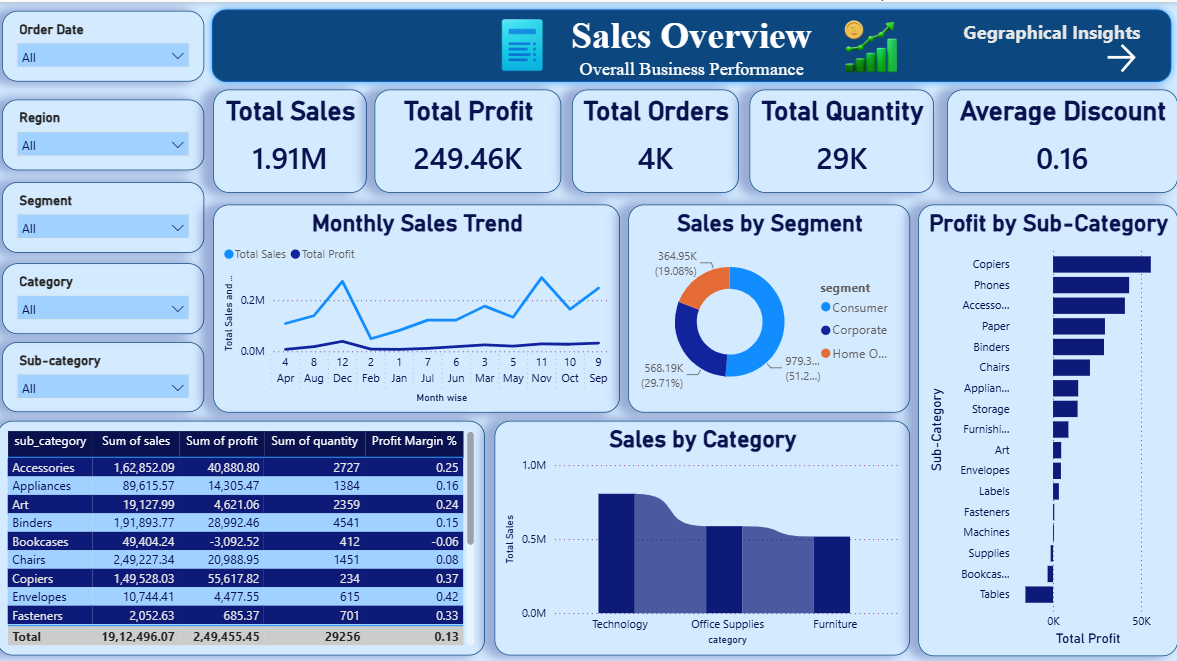

The page's visual inventory and layout, read from the dashboard file:
{"tool":"powerbi","page":{"name":"Sales Overview","canvas":[1280,720],"ordinal":0},"visuals":[{"type":"cardVisual","title":"Total Sales","fields":{"Data":["charu_customer_data.Total Sales"]},"box":[233.9,94.6,166.3,112.2],"z":0},{"type":"shape","box":[224.4,0,1055.9,94.6],"z":1000},{"type":"shape","box":[575.9,47.3,354.2,36.5],"z":2000},{"type":"slicer","fields":{"Values":["charu_customer_data.order_date"]},"box":[5.4,9.5,219,77.1],"z":3000},{"type":"slicer","fields":{"Values":["charu_customer_data.region"]},"box":[5.4,105.5,219,77.1],"z":4000},{"type":"slicer","fields":{"Values":["charu_customer_data.segment"]},"box":[5.4,194.7,219,77.1],"z":5000},{"type":"slicer","fields":{"Values":["charu_customer_data.category"]},"box":[5.4,282.6,219,77.1],"z":6000},{"type":"slicer","fields":{"Values":["charu_customer_data.sub_category"]},"box":[5.4,369.1,219,75.7],"z":7000},{"type":"cardVisual","title":"Total Orders","fields":{"Data":["charu_customer_data.Total Orders"]},"box":[623.2,94.6,181.2,112.2],"z":8000},{"type":"cardVisual","title":"Total Profit","fields":{"Data":["charu_customer_data.Total Profit"]},"box":[409.6,94.6,202.8,112.2],"z":9000},{"type":"cardVisual","title":"Total Quantity","fields":{"Data":["charu_customer_data.Total Quantity"]},"box":[815.2,94.6,200.1,112.2],"z":10000},{"type":"cardVisual","title":"Average Discount","fields":{"Data":["charu_customer_data.Average Discount"]},"box":[1030.2,94.6,250.1,112.2],"z":11000},{"type":"lineChart","title":"Monthly Sales Trend","fields":{"Category":["DateTable.Month","DateTable.Month Number"],"Y":["charu_customer_data.Total Sales","charu_customer_data.Total Profit"]},"box":[233.9,219,440.7,225.8],"z":12000},{"type":"ribbonChart","title":"Sales by Category","fields":{"Category":["charu_customer_data.category"],"Y":["charu_customer_data.Total Sales"]},"box":[539.4,454.2,450.2,254.2],"z":13000},{"type":"clusteredBarChart","title":"Profit by Sub-Category","fields":{"Category":["charu_customer_data.sub_category"],"Y":["charu_customer_data.Total Profit"]},"box":[999.1,219,281.2,489.4],"z":14000},{"type":"donutChart","title":"Sales by Segment","fields":{"Category":["charu_customer_data.segment"],"Y":["charu_customer_data.Total Sales"]},"box":[684.1,219,305.5,225.8],"z":15000},{"type":"tableEx","fields":{"Values":["charu_customer_data.sub_category","Sum(charu_customer_data.sales)","Sum(charu_customer_data.profit)","Sum(charu_customer_data.quantity)","charu_customer_data.Profit Margin %"]},"box":[0,454.2,528.6,254.2],"z":16000},{"type":"image","box":[525.7,13.5,86.7,66.4],"z":17000},{"type":"image","box":[903.6,14.9,86.7,66.4],"z":18000},{"type":"actionButton","box":[1029.6,14.9,227.6,65],"z":19000},{"type":"actionButton","box":[1197.6,40.6,59.6,40.6],"z":20000}]}

Visuals, with their boxes in screenshot pixels (x1, y1, x2, y2), scaled from the page's 1280x720 canvas onto the 1177x661 screenshot:
"Total Sales" cardVisual: {"left": 215, "top": 87, "right": 368, "bottom": 190}
shape: {"left": 206, "top": 0, "right": 1176, "bottom": 87}
shape: {"left": 530, "top": 43, "right": 855, "bottom": 77}
slicer - charu_customer_data.order_date: {"left": 5, "top": 9, "right": 206, "bottom": 80}
slicer - charu_customer_data.region: {"left": 5, "top": 97, "right": 206, "bottom": 168}
slicer - charu_customer_data.segment: {"left": 5, "top": 179, "right": 206, "bottom": 250}
slicer - charu_customer_data.category: {"left": 5, "top": 259, "right": 206, "bottom": 330}
slicer - charu_customer_data.sub_category: {"left": 5, "top": 339, "right": 206, "bottom": 408}
"Total Orders" cardVisual: {"left": 573, "top": 87, "right": 740, "bottom": 190}
"Total Profit" cardVisual: {"left": 377, "top": 87, "right": 563, "bottom": 190}
"Total Quantity" cardVisual: {"left": 750, "top": 87, "right": 934, "bottom": 190}
"Average Discount" cardVisual: {"left": 947, "top": 87, "right": 1176, "bottom": 190}
"Monthly Sales Trend" lineChart: {"left": 215, "top": 201, "right": 620, "bottom": 408}
"Sales by Category" ribbonChart: {"left": 496, "top": 417, "right": 910, "bottom": 650}
"Profit by Sub-Category" clusteredBarChart: {"left": 919, "top": 201, "right": 1176, "bottom": 650}
"Sales by Segment" donutChart: {"left": 629, "top": 201, "right": 910, "bottom": 408}
tableEx - charu_customer_data.sub_category x Sum(charu_customer_data.sales): {"left": 0, "top": 417, "right": 486, "bottom": 650}
image: {"left": 483, "top": 12, "right": 563, "bottom": 73}
image: {"left": 831, "top": 14, "right": 911, "bottom": 75}
actionButton: {"left": 947, "top": 14, "right": 1156, "bottom": 73}
actionButton: {"left": 1101, "top": 37, "right": 1156, "bottom": 75}
